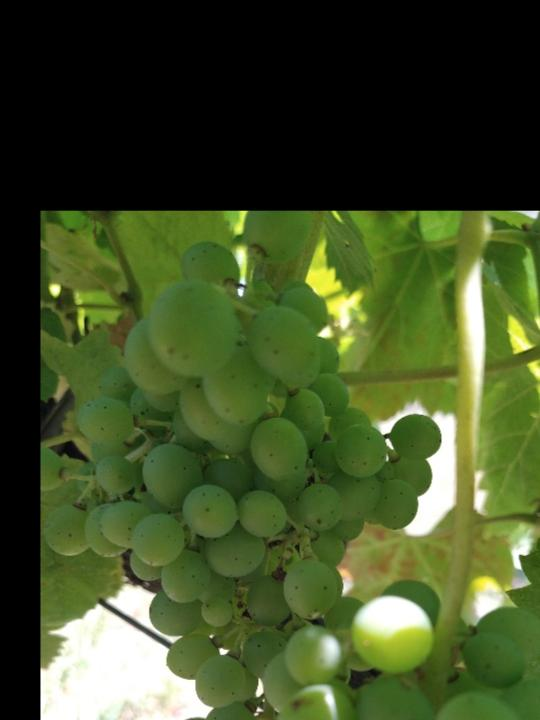grape: (42, 240, 443, 720)
